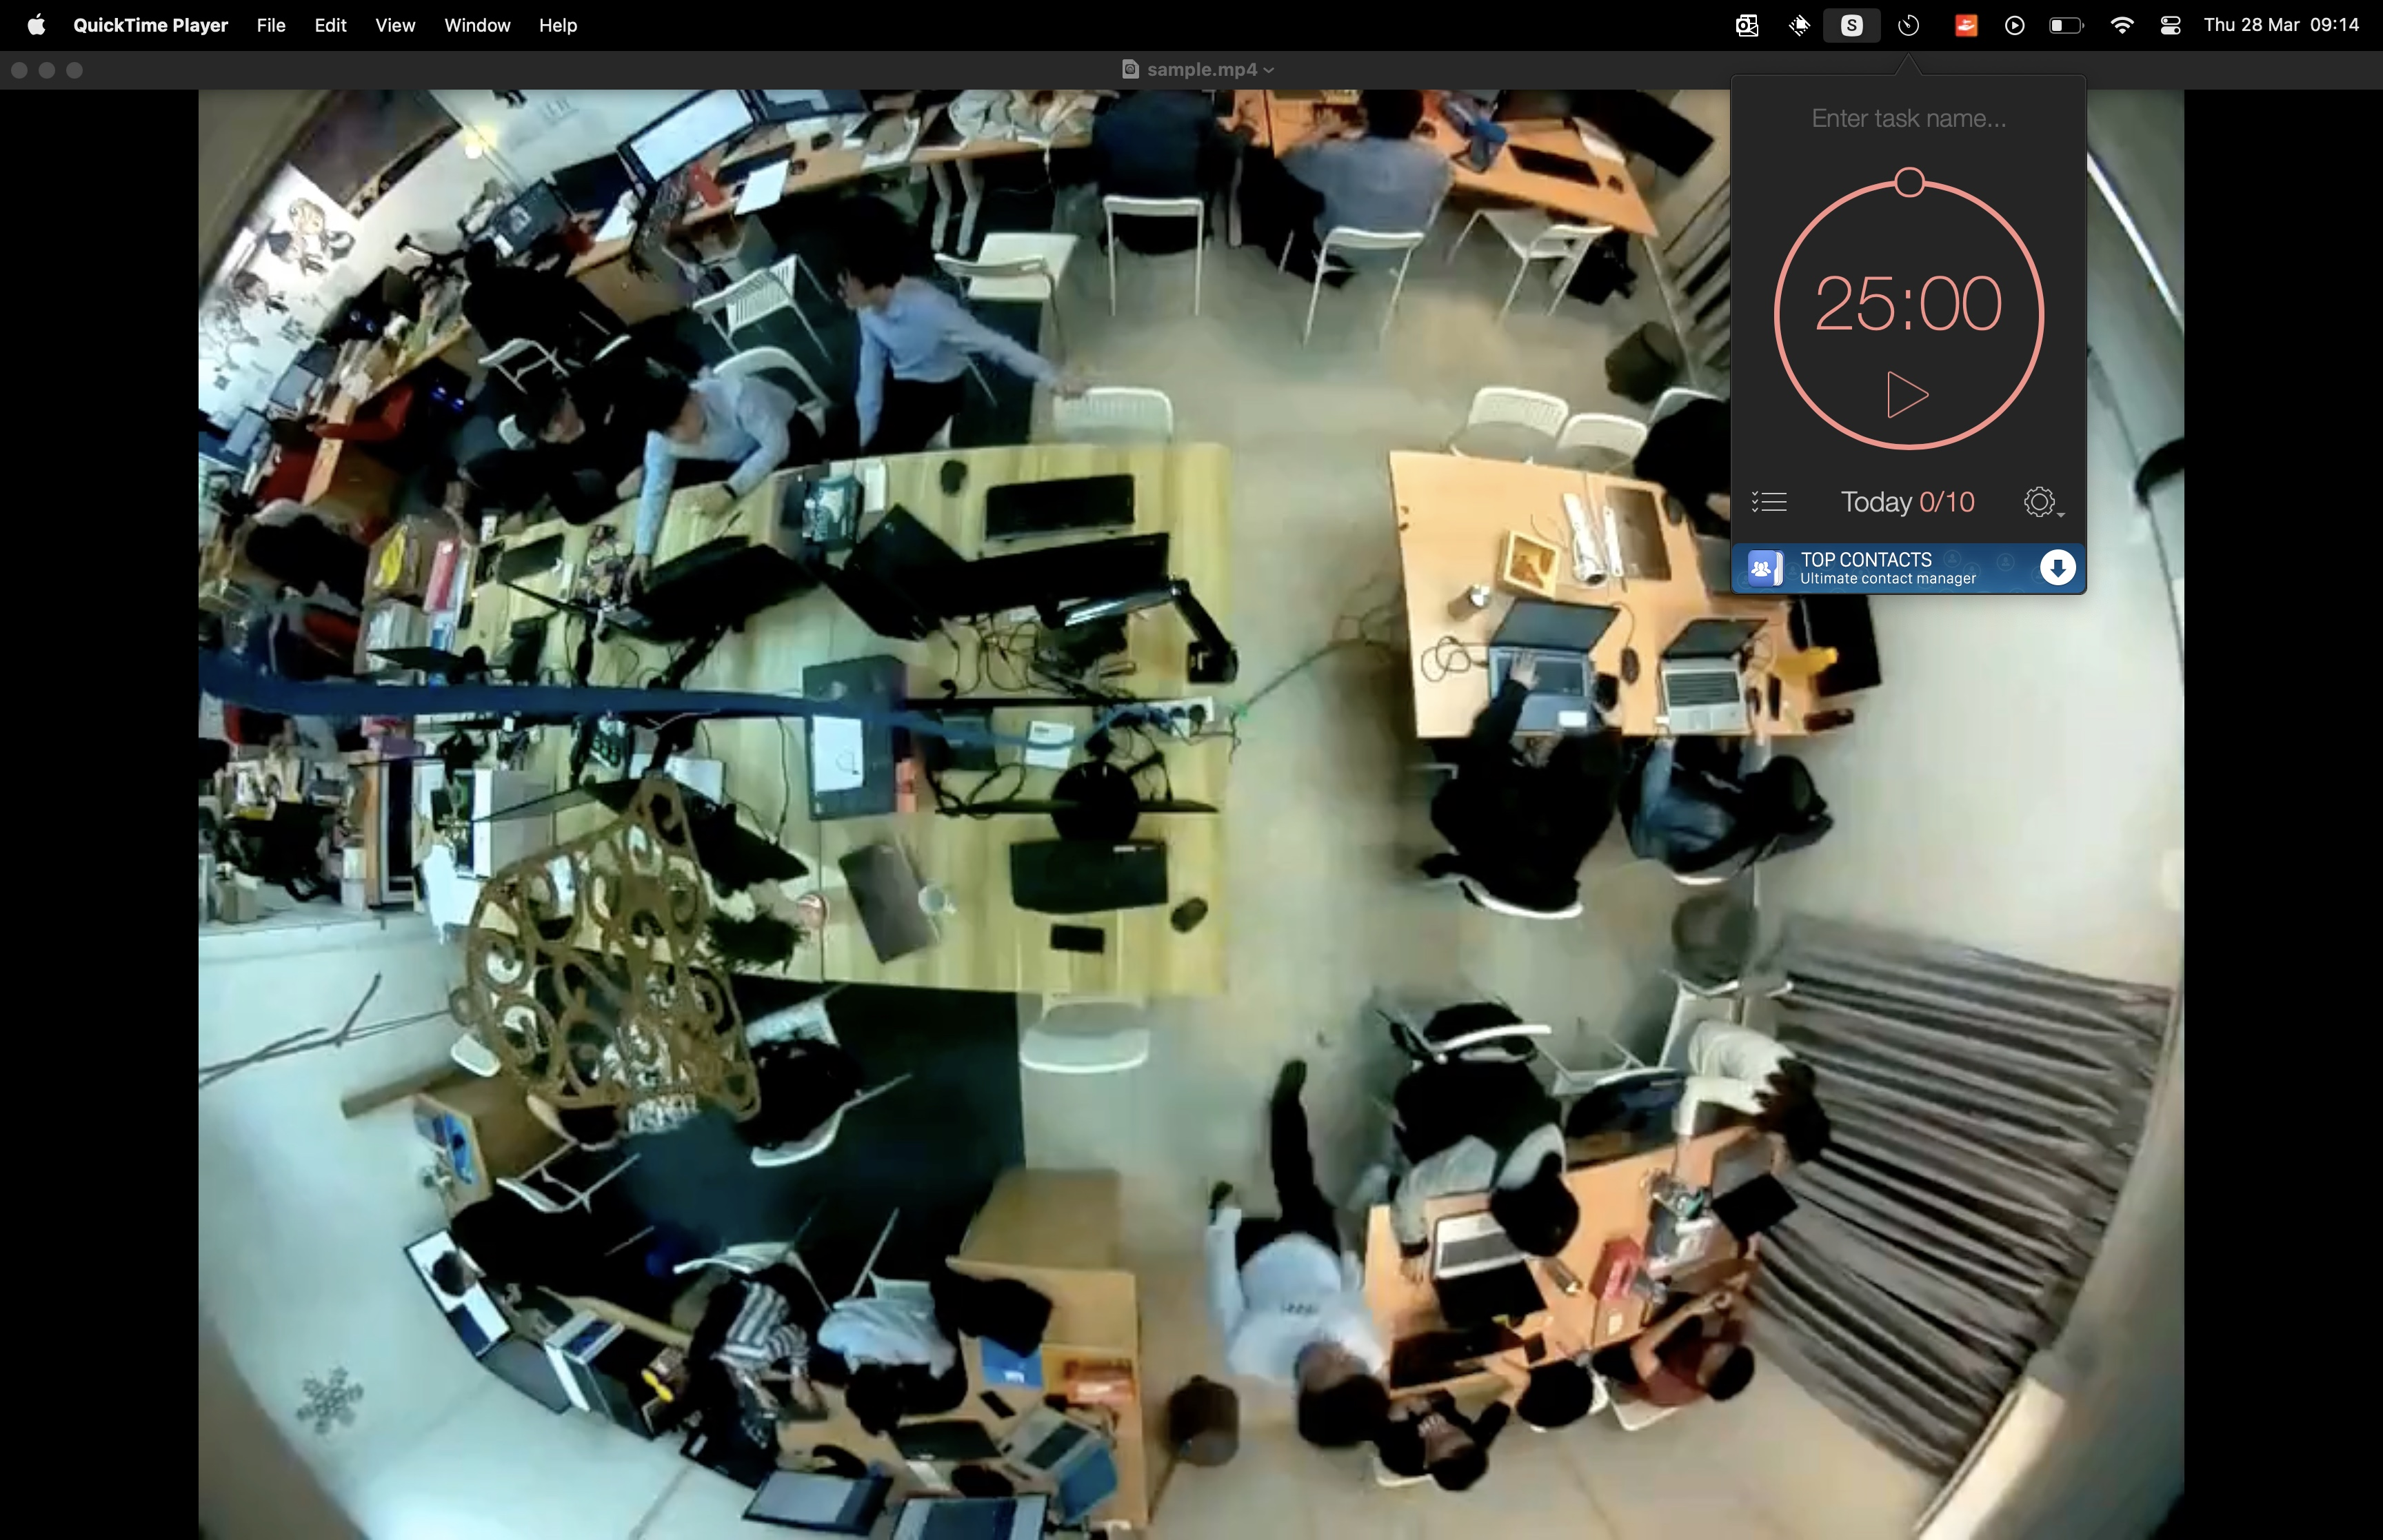Staff: (1183, 1075, 1390, 1457)
